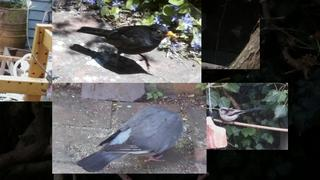blackbird: (76, 24, 177, 74)
long tailed tit: (217, 107, 264, 125)
wood pigeon: (76, 107, 183, 173)
